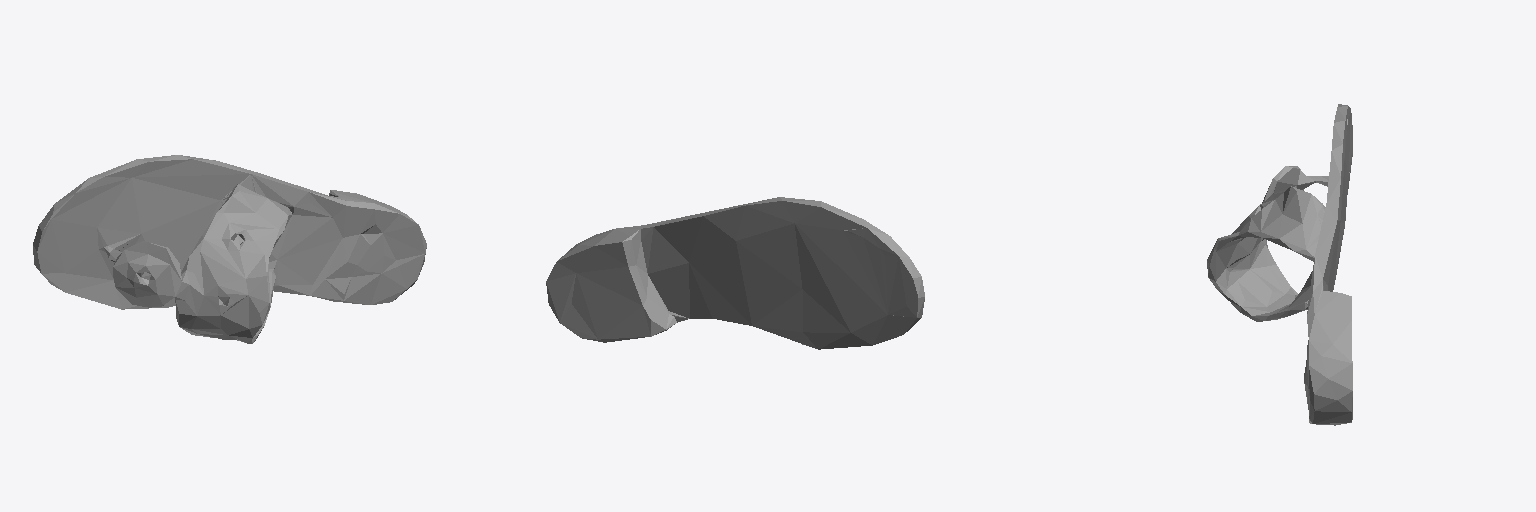
File: model_nPBvPYCdYgU.obj
3 renders of one model, left to right at view 1: azimuth 30°, elevation 25°; view 2: azimuth 150°, elevation 25°; view 3: azimuth 270°, elevation 25°, orthographic.
Visible parts, largest first — view 1: model; view 2: model; view 3: model.
Part boxes in pixels (bbox=[...]): model: bbox=[33, 155, 426, 343]; model: bbox=[546, 197, 924, 349]; model: bbox=[1207, 104, 1352, 425].
Bounding box in the file's own units: 0.2416 × 0.1154 × 0.081.